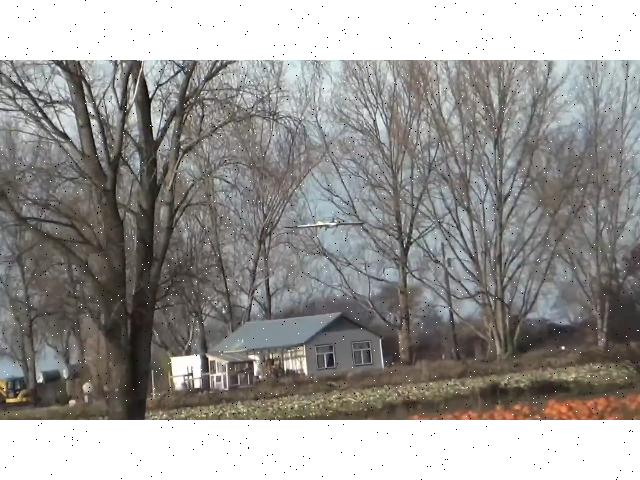Anti-Drone: (284, 220, 366, 227)
